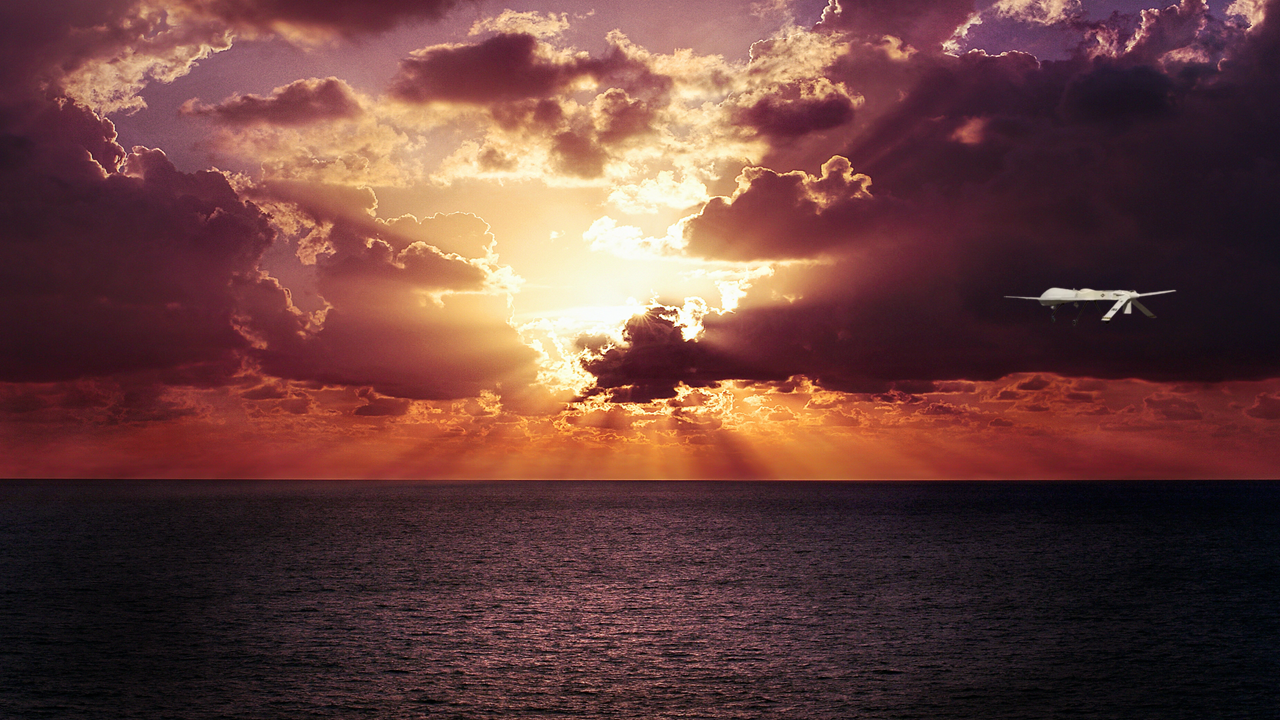military drone: (1004, 286, 1176, 325)
